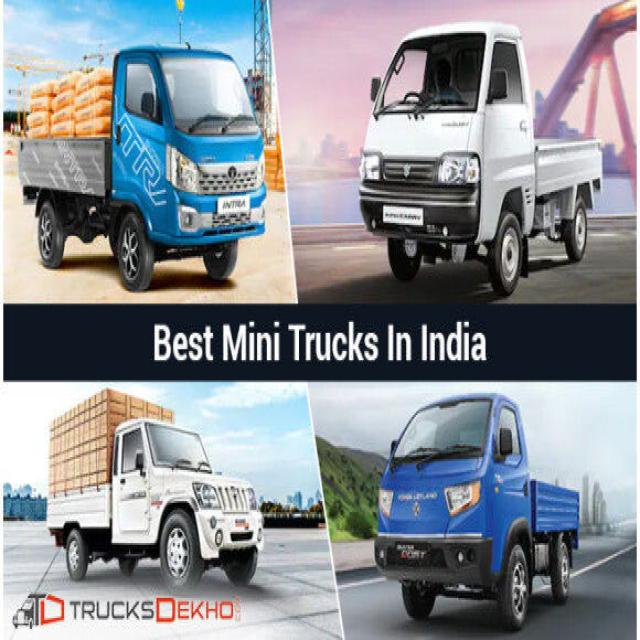truck: (359, 25, 602, 293), (19, 46, 265, 289), (375, 394, 580, 627), (48, 418, 264, 587)
